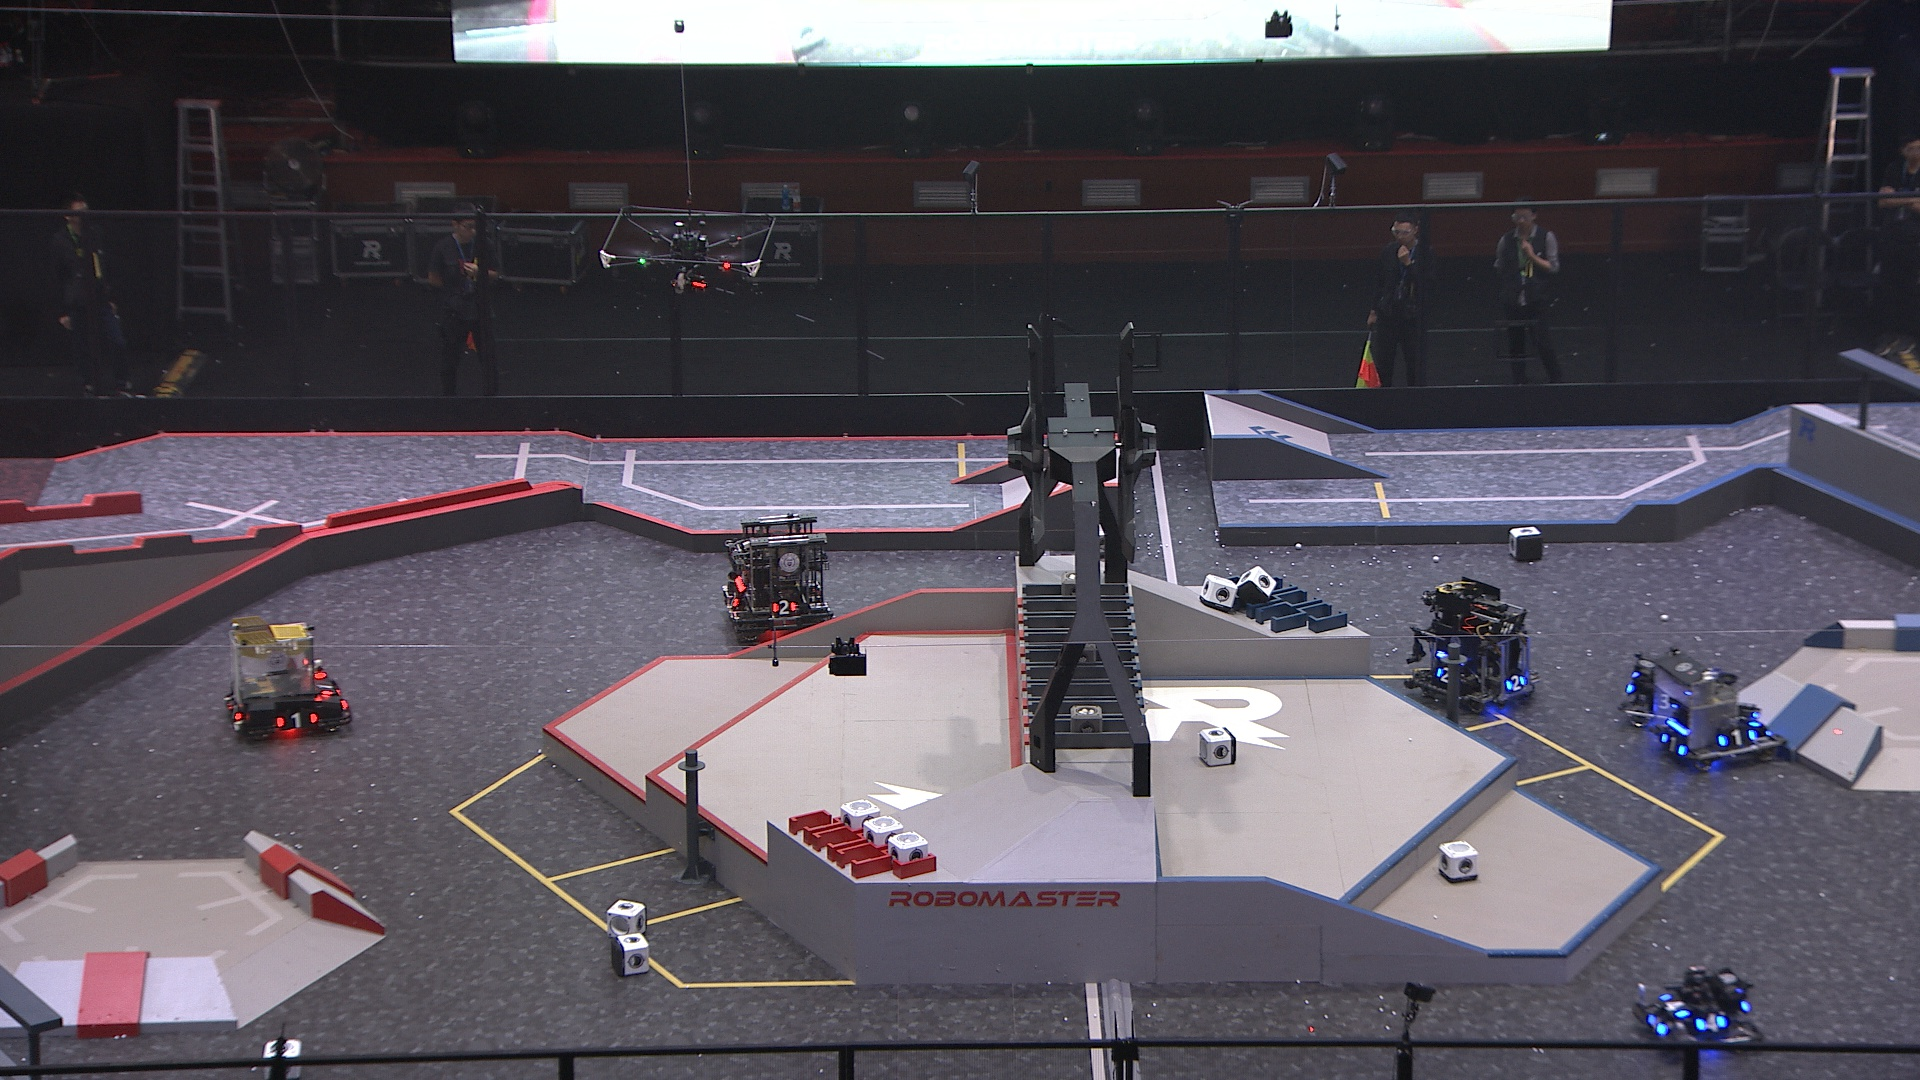armor: (281, 712, 316, 733), (1662, 731, 1684, 760), (1660, 994, 1685, 1019), (1721, 728, 1754, 746), (1695, 1015, 1724, 1034), (316, 669, 335, 698), (773, 599, 799, 618), (225, 700, 243, 727), (1655, 694, 1677, 713), (1505, 675, 1527, 694), (1647, 1015, 1664, 1034), (1432, 669, 1449, 687), (727, 589, 738, 612)
car: (1408, 576, 1539, 713), (222, 611, 353, 744), (1646, 651, 1783, 774), (721, 514, 837, 644), (1636, 963, 1764, 1055), (1627, 647, 1702, 731)
